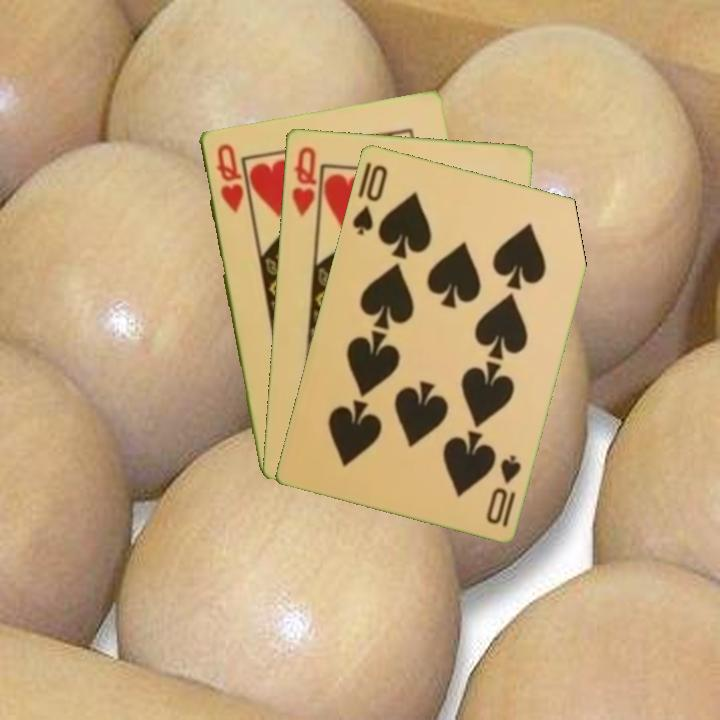10s: (482, 450, 524, 530), (348, 160, 390, 238)
Qh: (212, 140, 246, 216), (288, 143, 319, 219)
